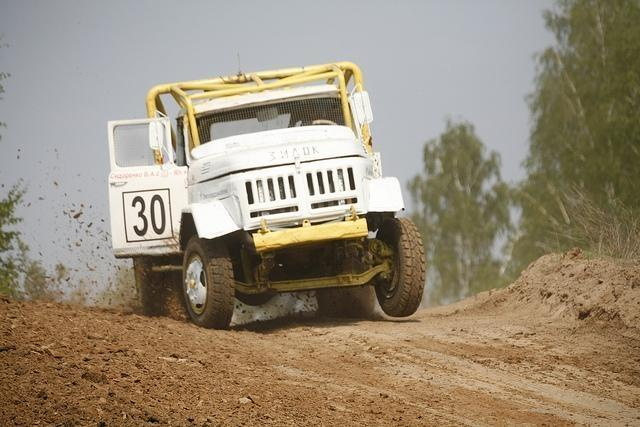truck: (110, 58, 427, 327)
